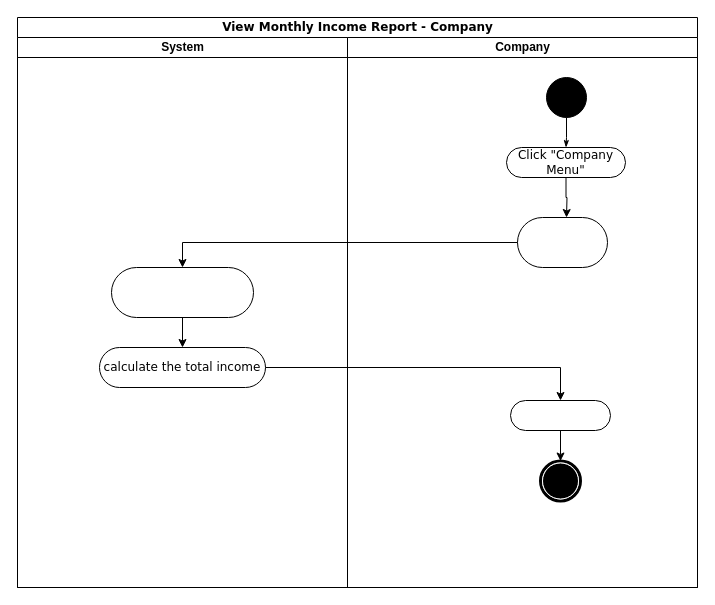
Image size: 715x605. Some labels were removed from this diagram. The centre of each missing label's shape, as x and y in pixels:
Click "View Monthly Report": (562,242)
do stuff: (560,415)
take the orders from the last month table from the DB: (182,292)
